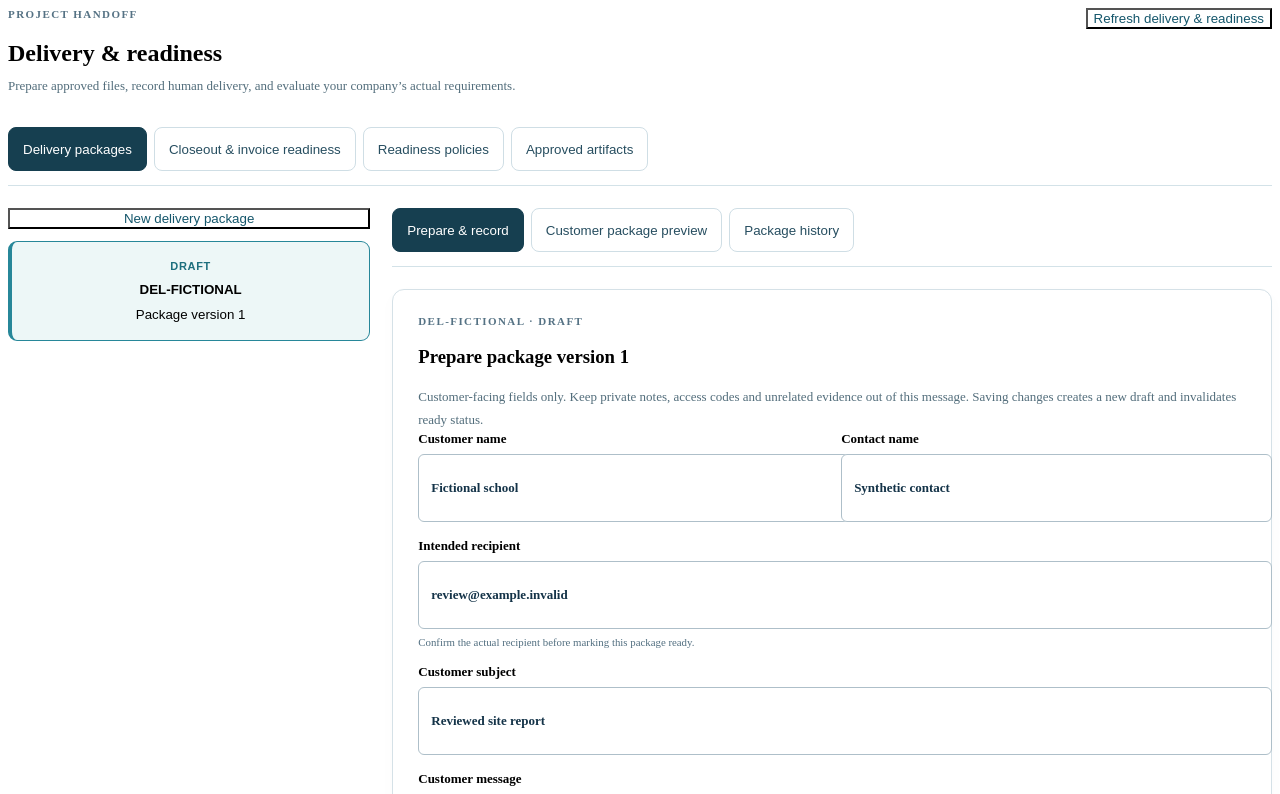
it: approved delivery and live readiness UI › shows no-policy state and agreed amount without inventing invoice or payment facts
Expected: the field labelled "Customer subject" is shown, 418,687 -> 1272,755
Click the button "Closeout & invoice readiness": (255, 149) 154,127 -> 356,171
(page scrolled)
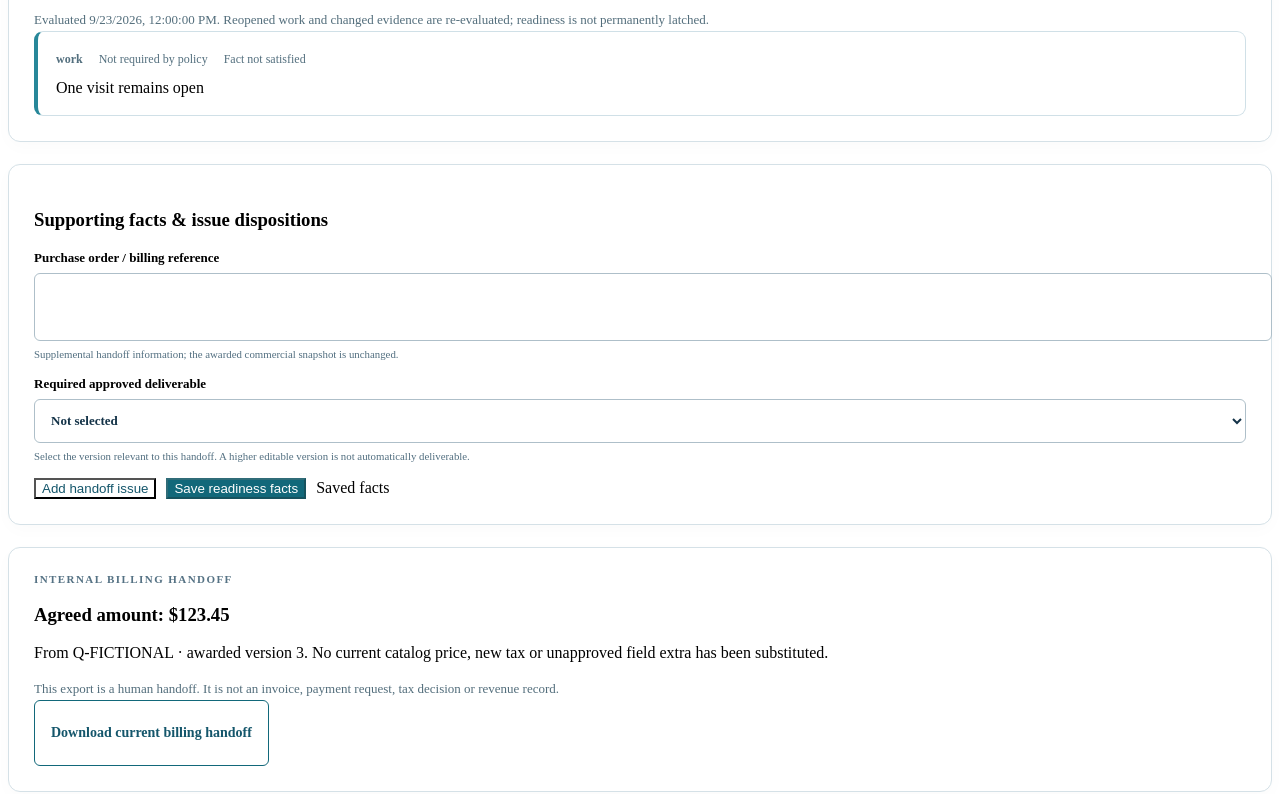
Expected: the heading "Agreed amount: $123.45" is shown, 34,604 -> 230,625
